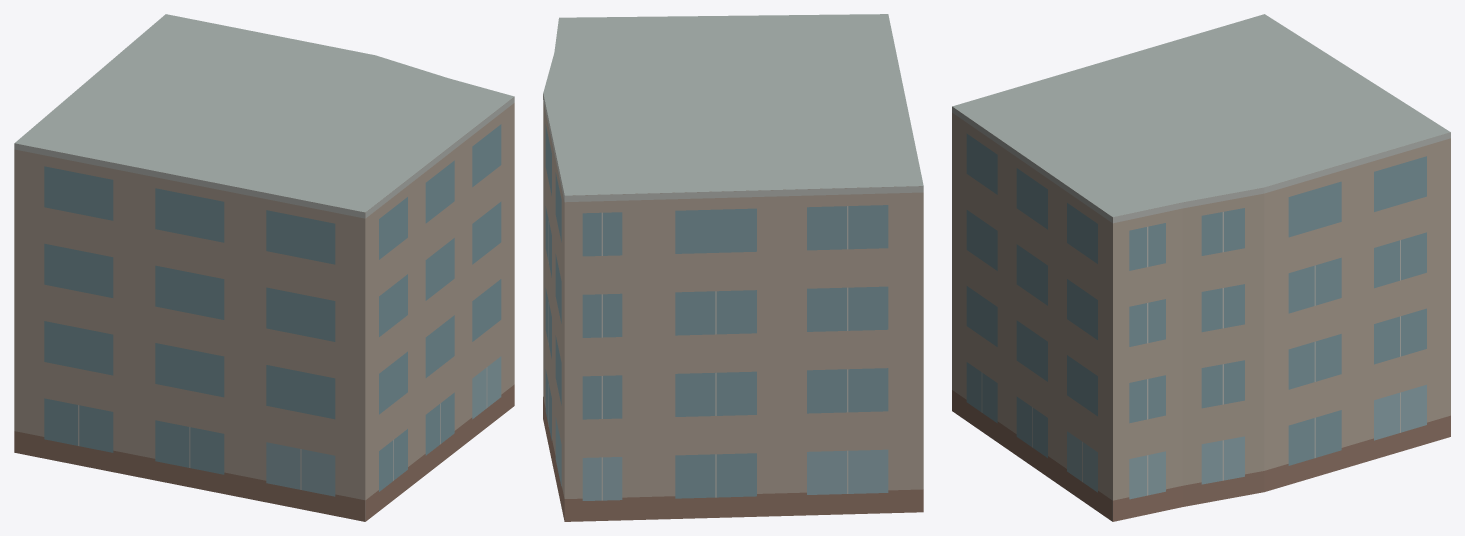
The model's file is residential-9989783e-f447-4918-bcd4-5318a3f1d6ef.glb.
The picture shows the model from 3 angles, left to right: view 1: azimuth 30°, elevation 25°; view 2: azimuth 150°, elevation 25°; view 3: azimuth 270°, elevation 25°; orthographic projection. The views are drawn at different scales.
Visible parts, largest first — view 1: residential-9989783e-f447-4918-bcd4-5318a3f1d6ef.tmp; view 2: residential-9989783e-f447-4918-bcd4-5318a3f1d6ef.tmp; view 3: residential-9989783e-f447-4918-bcd4-5318a3f1d6ef.tmp.
Part boxes in pixels (bbox=[...]): residential-9989783e-f447-4918-bcd4-5318a3f1d6ef.tmp: bbox=[14, 14, 514, 521]; residential-9989783e-f447-4918-bcd4-5318a3f1d6ef.tmp: bbox=[543, 14, 923, 521]; residential-9989783e-f447-4918-bcd4-5318a3f1d6ef.tmp: bbox=[952, 14, 1450, 521].
Bounding box in the file's own units: 17.47 × 12.2 × 18.11.
